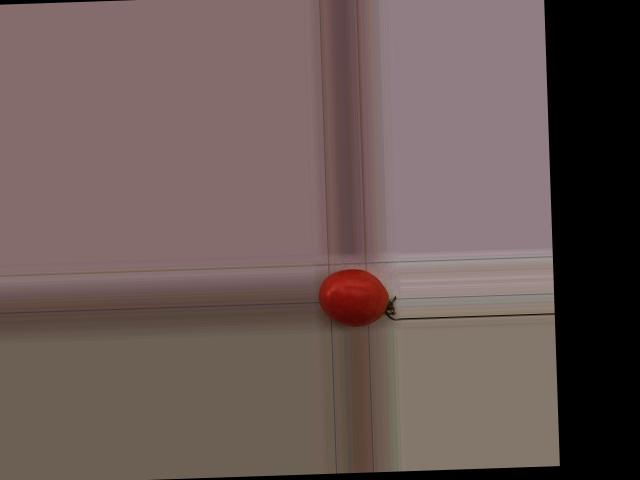tomato: (317, 267, 390, 327)
